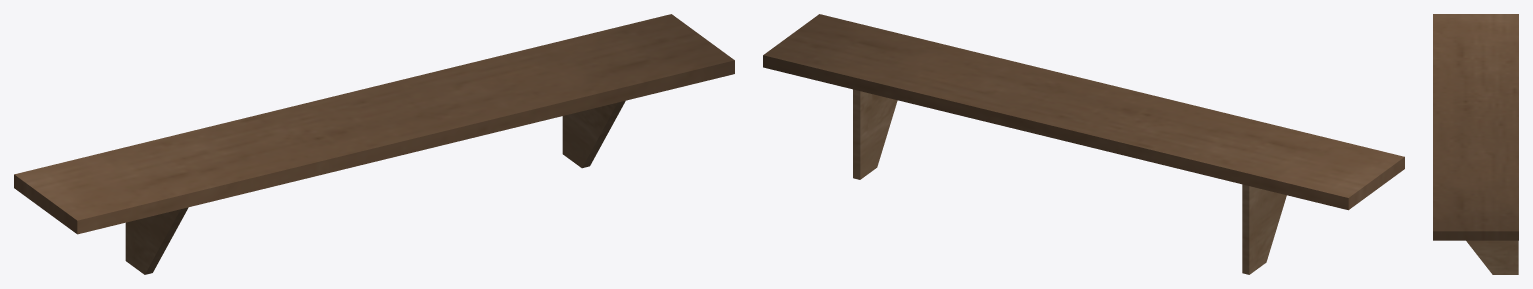
The model's file is bookshelf_1.fbx.
The picture shows the model from 3 angles, left to right: view 1: azimuth 30°, elevation 25°; view 2: azimuth 150°, elevation 25°; view 3: azimuth 270°, elevation 25°; orthographic projection. The views are drawn at different scales.
Parts seen in each view (by area): view 1: polySurface1114; view 2: polySurface1114; view 3: polySurface1114.
Boxes of the visible parts, bbox=[...] form: polySurface1114: bbox=[14, 14, 734, 274]; polySurface1114: bbox=[763, 14, 1404, 274]; polySurface1114: bbox=[1433, 14, 1518, 274].
Bounding box in the file's own units: 150 × 24.78 × 25.
1 material, 1 textured.
